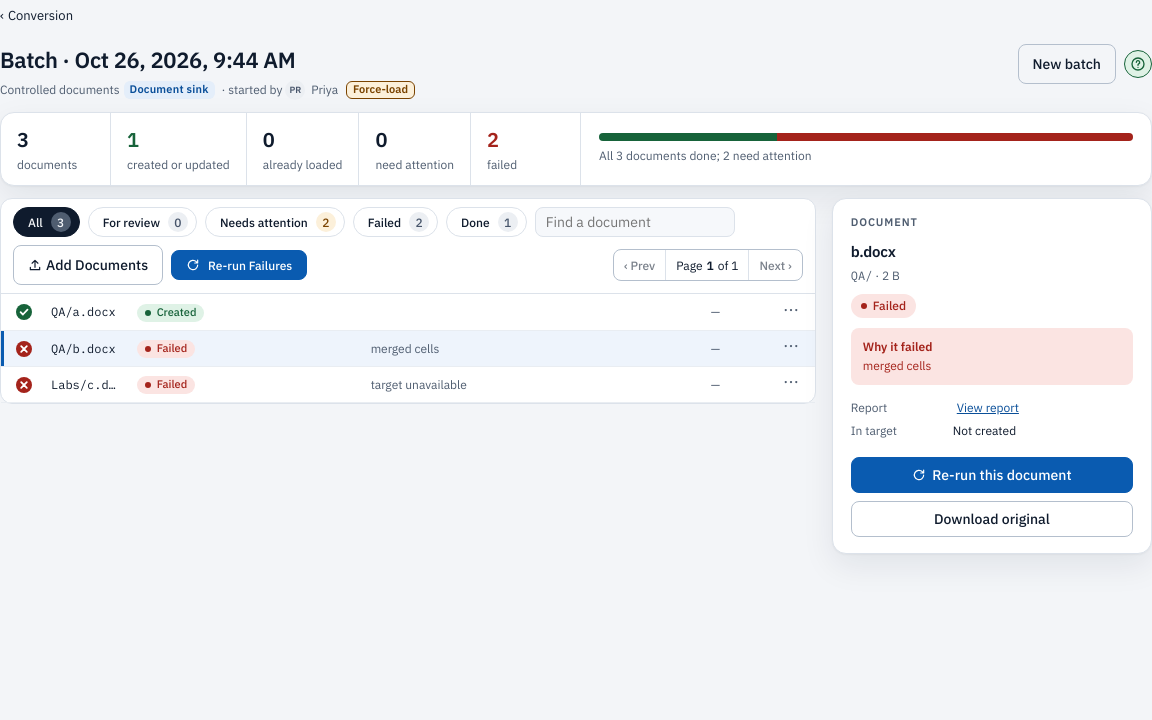
it: the Conversion tab redesign: a batch › re-runs the chosen failed documents in this batch, and stays on it as they run
This screenshot has width=1152, height=720.
Click the button "Re-run Failures". click: (239, 265)
box: [171, 250, 307, 280]
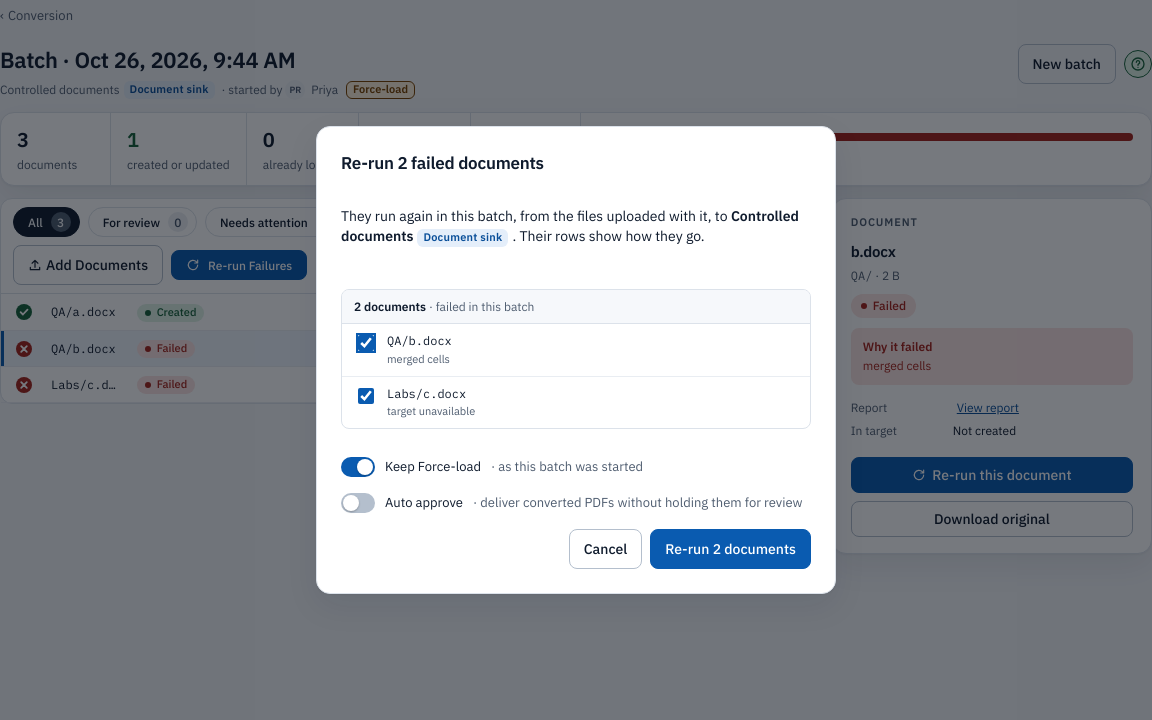
expect the checkbox labelled "QA/b.docx merged cells" is checked: met, box [358, 335, 374, 351]
expect the text "merged cells" is shown: met, box [387, 352, 452, 368]
expect the switch labelled "Keep Force-load · as this batch was started" is checked: met, box [341, 457, 643, 477]
Click the checkbox labelled "Labs/c.docx target unavailable". click: (366, 396)
box: [358, 388, 374, 404]
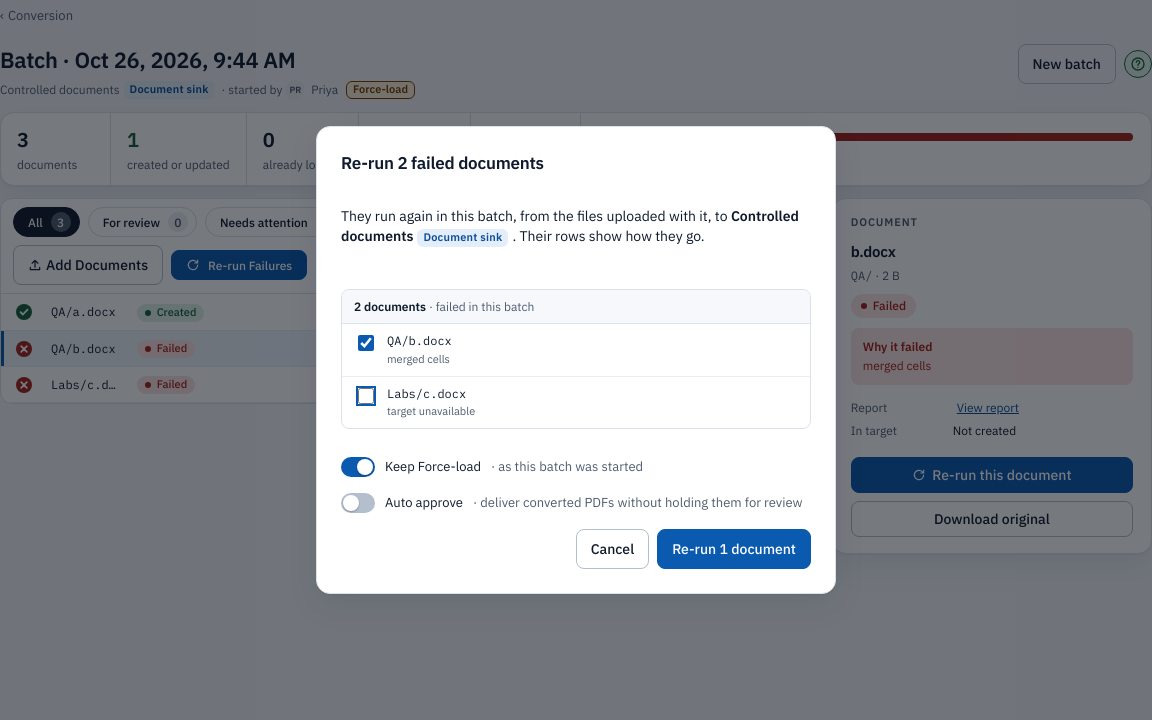
Click the switch labelled "Keep Force-load · as this batch was started". click: (492, 467)
box: [341, 457, 643, 477]
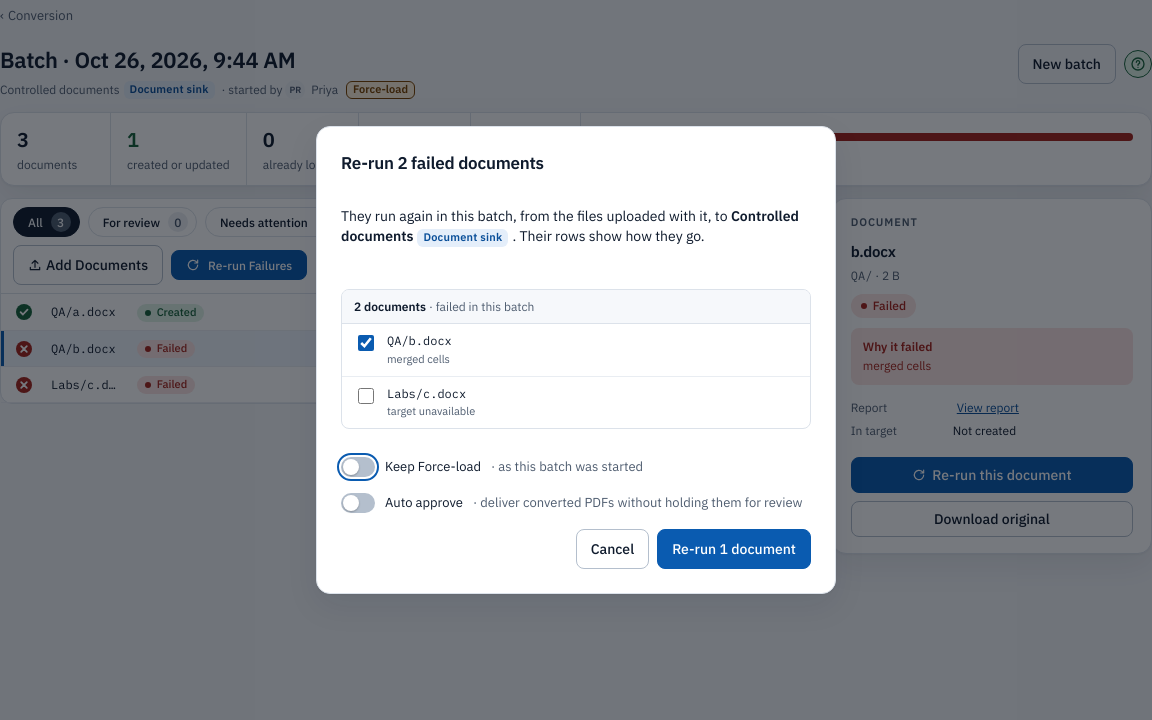
Click the button "Re-run 1 document". click: (734, 549)
box: [657, 529, 811, 569]
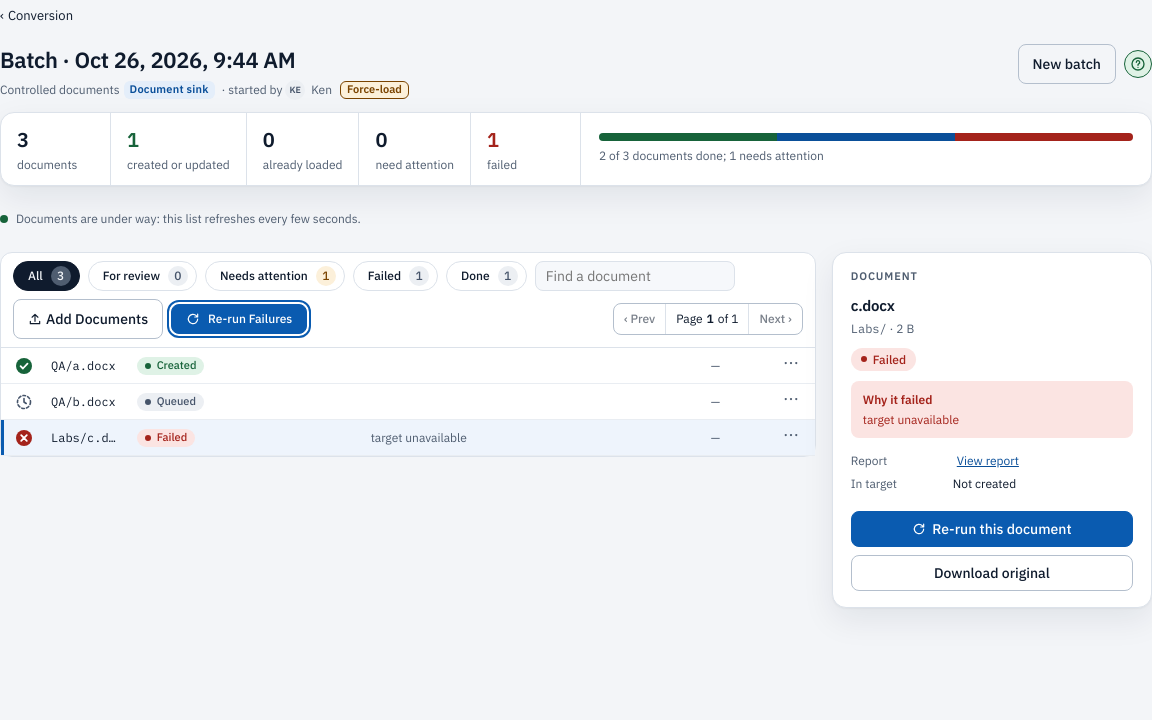
expect the dialog is gone: met
expect the text "Queued" is shown: met, box [137, 393, 204, 411]
expect the text "this list refreshes every few seconds" is shown: met, box [16, 211, 361, 226]
